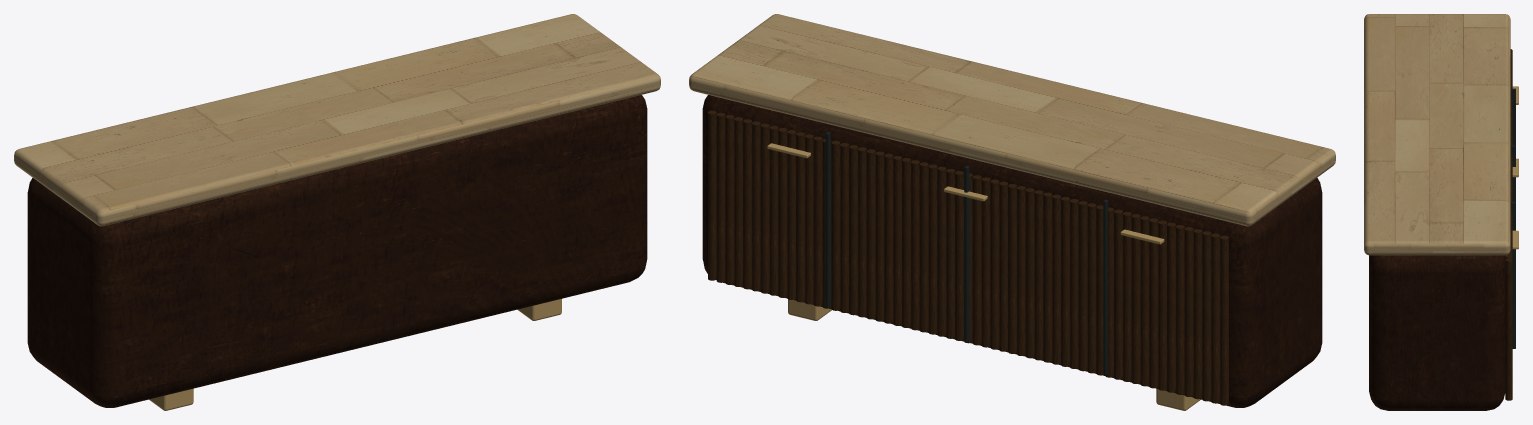
Rendered from luxury-reeded-credenza.glb.
3 renders of one model, left to right at view 1: azimuth 30°, elevation 25°; view 2: azimuth 150°, elevation 25°; view 3: azimuth 270°, elevation 25°, orthographic. The views are drawn at different scales.
Visible parts, largest first — view 1: walnut_0, stone_1, bronze_64; view 2: oak_2, stone_1, walnut_0, dark_61, bronze_64; view 3: stone_1, walnut_0, oak_2, dark_61, bronze_64.
Part boxes in pixels (bbox=[...]): walnut_0: bbox=[27, 95, 647, 407]; stone_1: bbox=[14, 14, 660, 226]; bronze_64: bbox=[149, 299, 561, 410]; oak_2: bbox=[708, 110, 1228, 405]; stone_1: bbox=[689, 14, 1335, 226]; walnut_0: bbox=[702, 95, 1322, 407]; dark_61: bbox=[825, 132, 1108, 375]; bronze_64: bbox=[767, 143, 1200, 410]; stone_1: bbox=[1364, 14, 1510, 255]; walnut_0: bbox=[1369, 255, 1505, 410]; oak_2: bbox=[1505, 49, 1512, 400]; dark_61: bbox=[1511, 88, 1515, 348]; bronze_64: bbox=[1512, 86, 1518, 249].
Bounding box in the file's own units: 2.23 × 0.8825 × 0.634.
5 materials, 3 textured.
